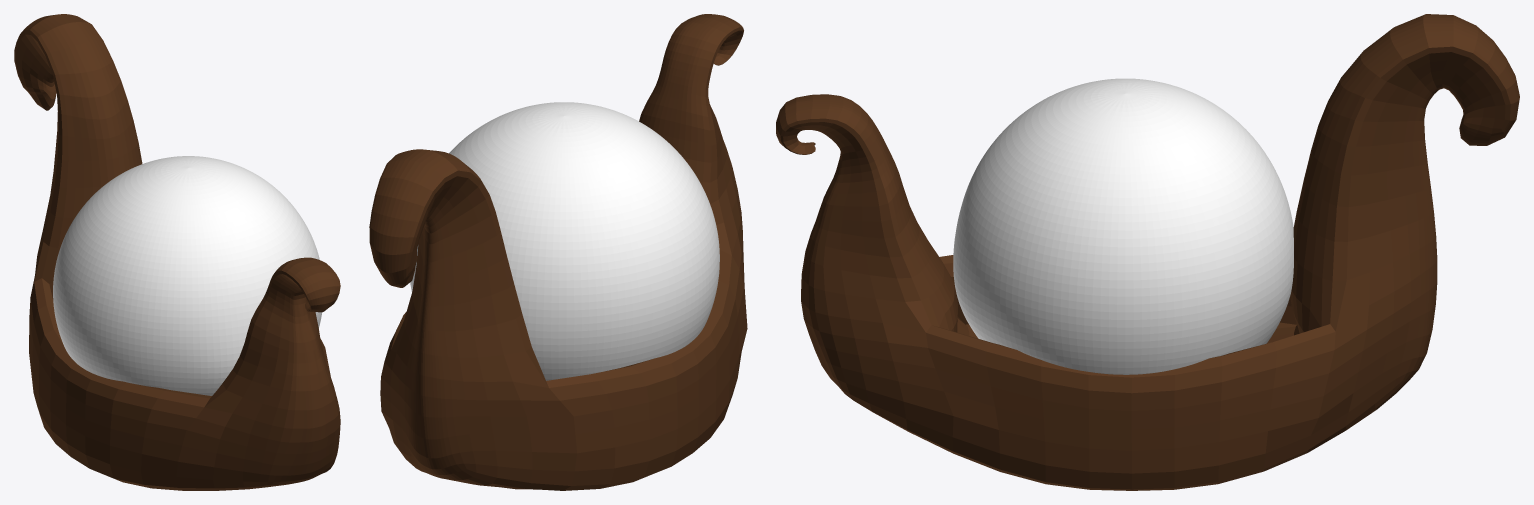
Rendered from vikingShipObj.1e53d46d.glb.
3 views of the same model, side by side, from view 1: azimuth 30°, elevation 25°; view 2: azimuth 150°, elevation 25°; view 3: azimuth 270°, elevation 25° (orthographic). The views are drawn at different scales.
Parts seen in each view (by area): view 1: Snowglobe; view 2: Snowglobe; view 3: Snowglobe.
Part boxes in pixels (left/top/right/bottom): Snowglobe: left=14, top=14, right=340, bottom=490; Snowglobe: left=369, top=14, right=747, bottom=490; Snowglobe: left=776, top=14, right=1519, bottom=490.
Bounding box in the file's own units: 0.111 × 0.1468 × 0.2415.
